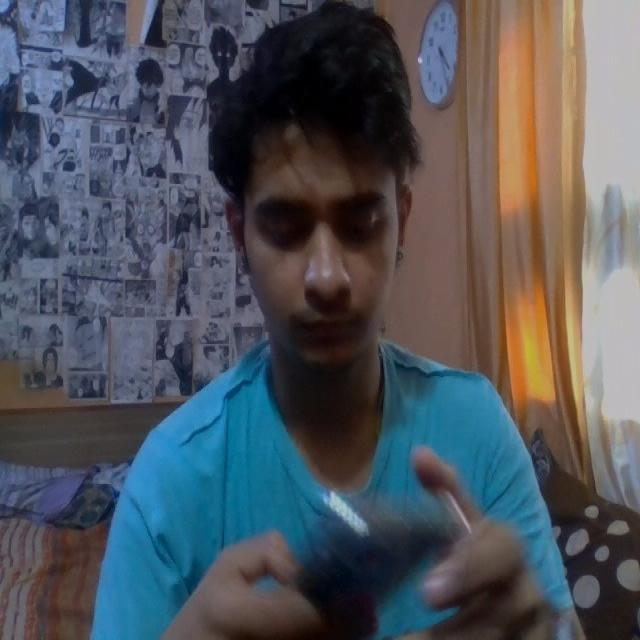phone: (297, 502, 462, 604)
using-phone: (92, 2, 581, 638)
